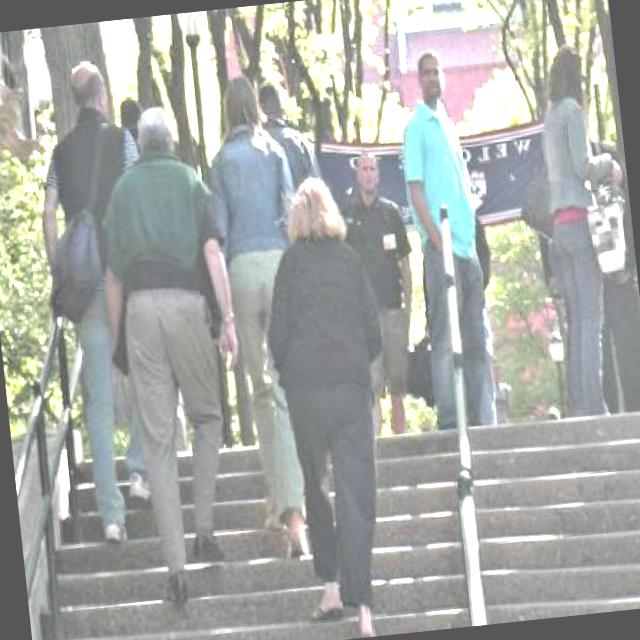Person: (94, 99, 247, 614), (252, 160, 413, 640), (20, 54, 162, 550), (192, 60, 320, 541), (388, 44, 514, 433), (521, 37, 640, 415), (332, 132, 428, 440)
